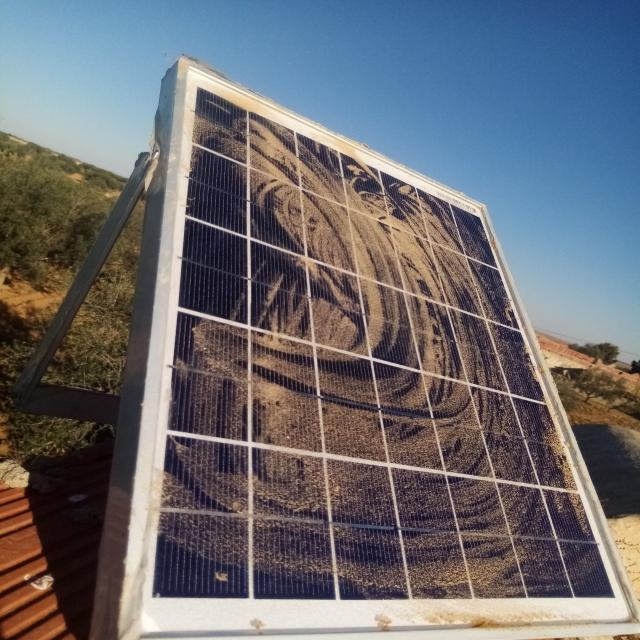faulty: (125, 65, 640, 635)
